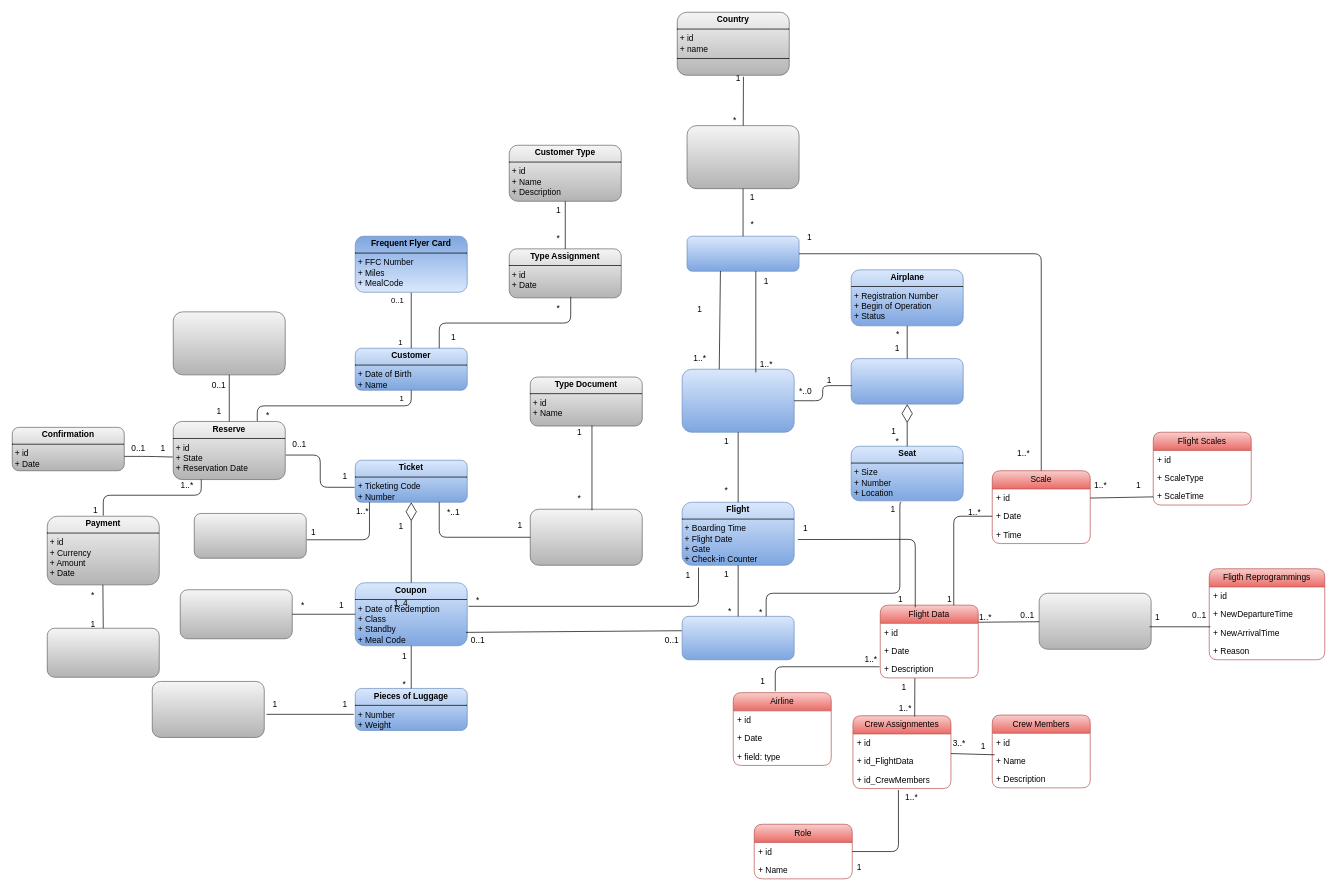
Image size: 1337x893. Some labels were removed from this diagram. The centre of each missing label's shape, as x and y in pixels:
Airport + Name: pixel 742 253
Available Seat + id: pixel 737 638
Baggege Check-in + Id + Prohibited Items + Weigth: pixel 208 709
Boarding Pass + Id + Gate: pixel 236 614
Cancellation + id + Reason + Cancellation Date + Penalty: pixel 229 343
Category + id + Name: pixel 250 535
City + id + Name: pixel 742 157
Document + ci + Date of Issue + Valid Date: pixel 586 537
Flight Cancellation + id + Reason + Cancellation Date: pixel 1094 621
Flight Number + Departure Time + Description + Type + Airline: pixel 737 400
Payment Type + id + Name: pixel 103 652
Plane Model + Description + Graphic: pixel 906 381
